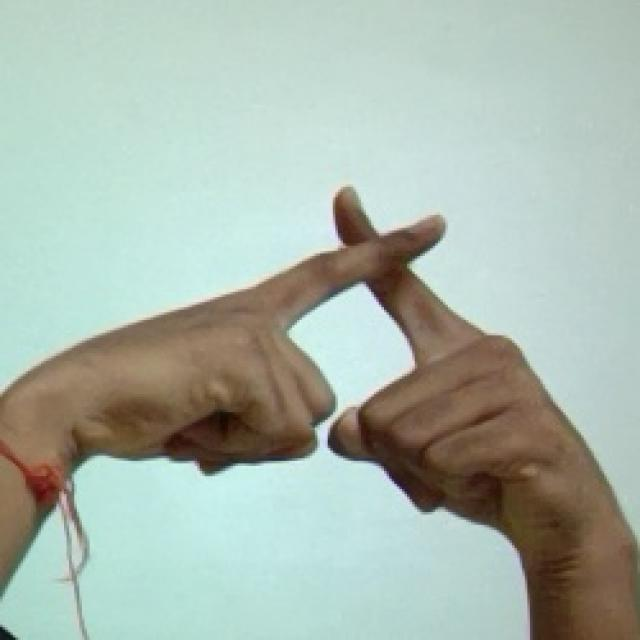Alphabet-X: (82, 184, 609, 549)
